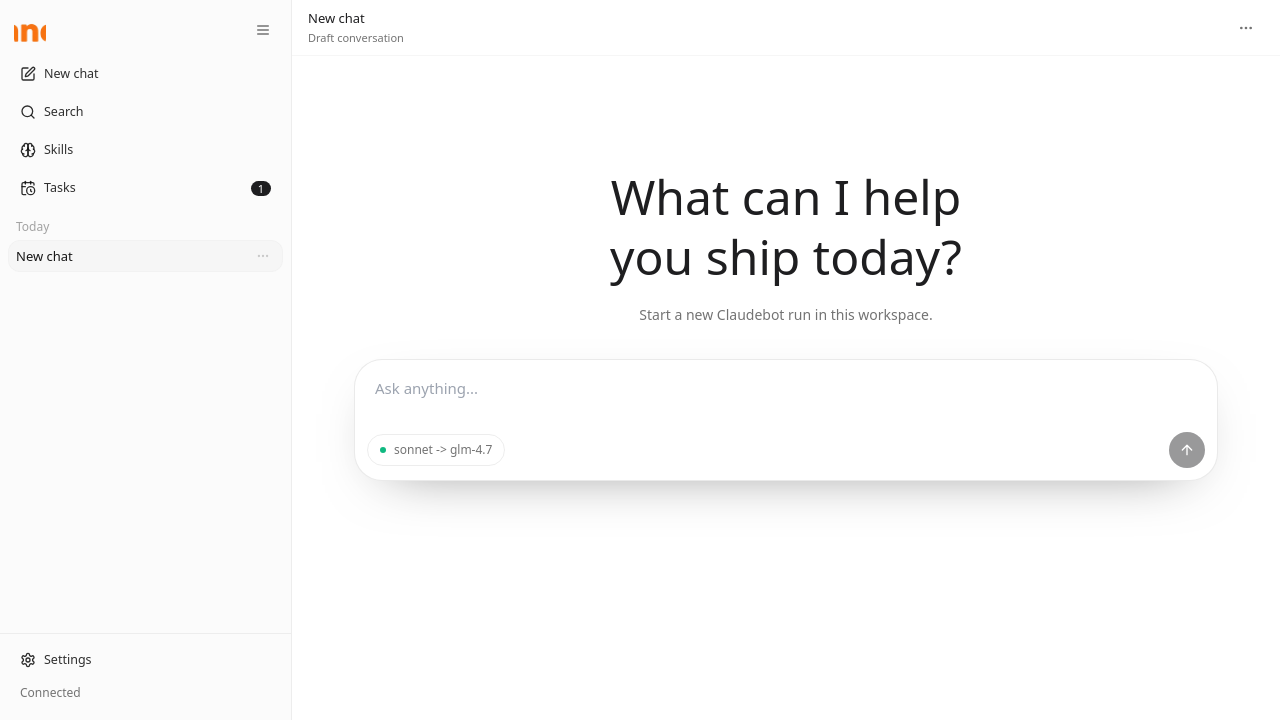
Test: App native layout › allows typing on the empty landing screen before clicking New chat
Expected: the heading "What can I help you ship today?" is shown, [610,164,962,289]
Type "start from landing" into the text box with placeholder "Ask anything...". click: (786, 396)
box: [355,360,1217,432]
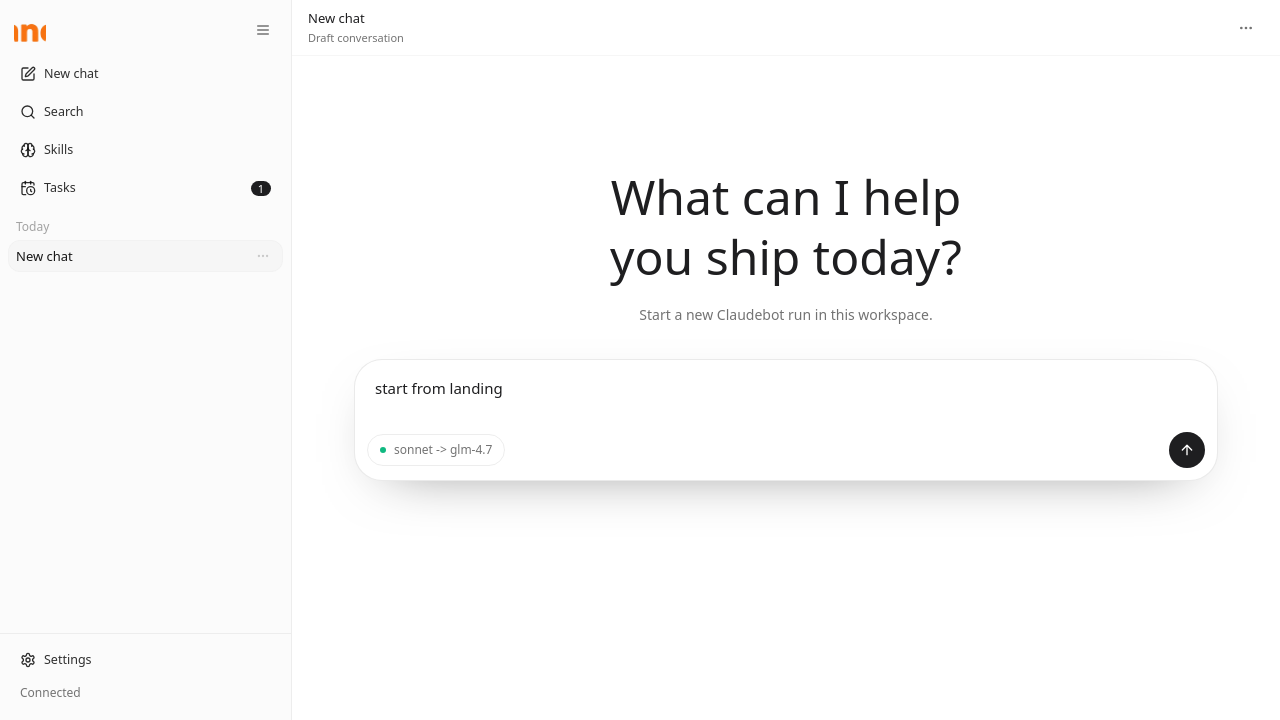
Click the button named "Send message". click: (1187, 450)
box: [1169,432,1205,468]
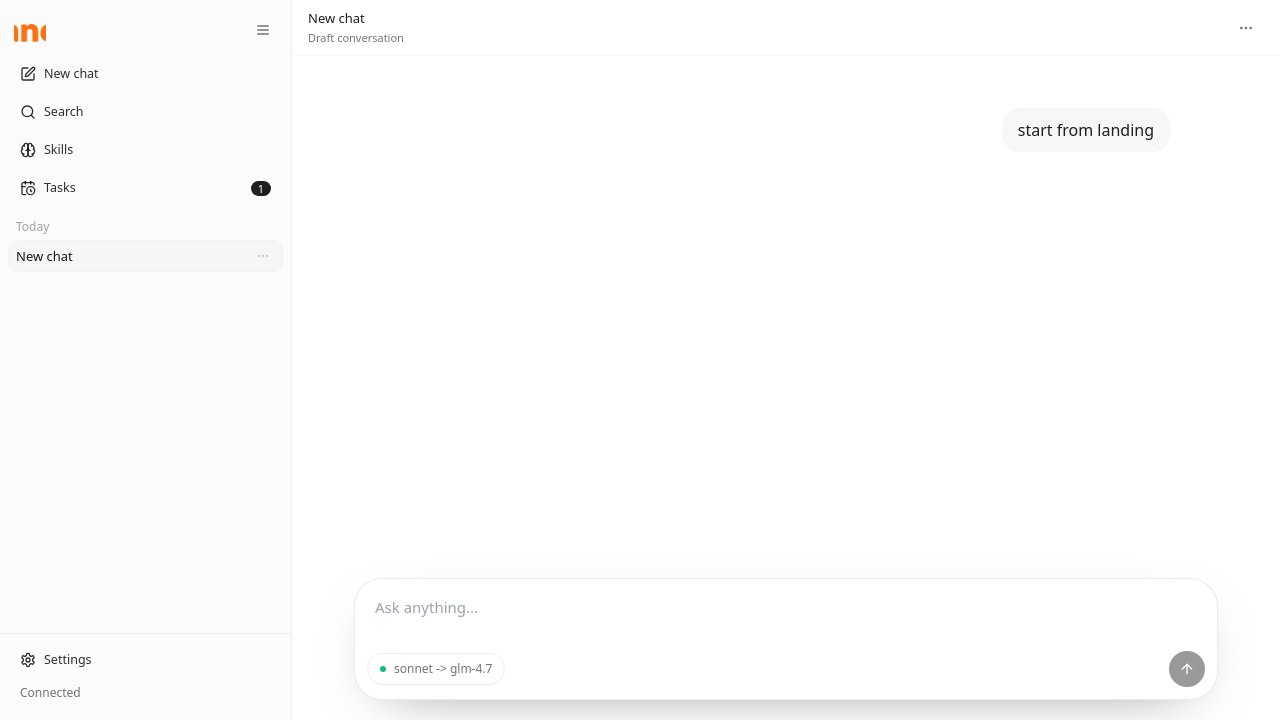
Now the text "start from landing" is shown, box [1002,108,1170,152]
